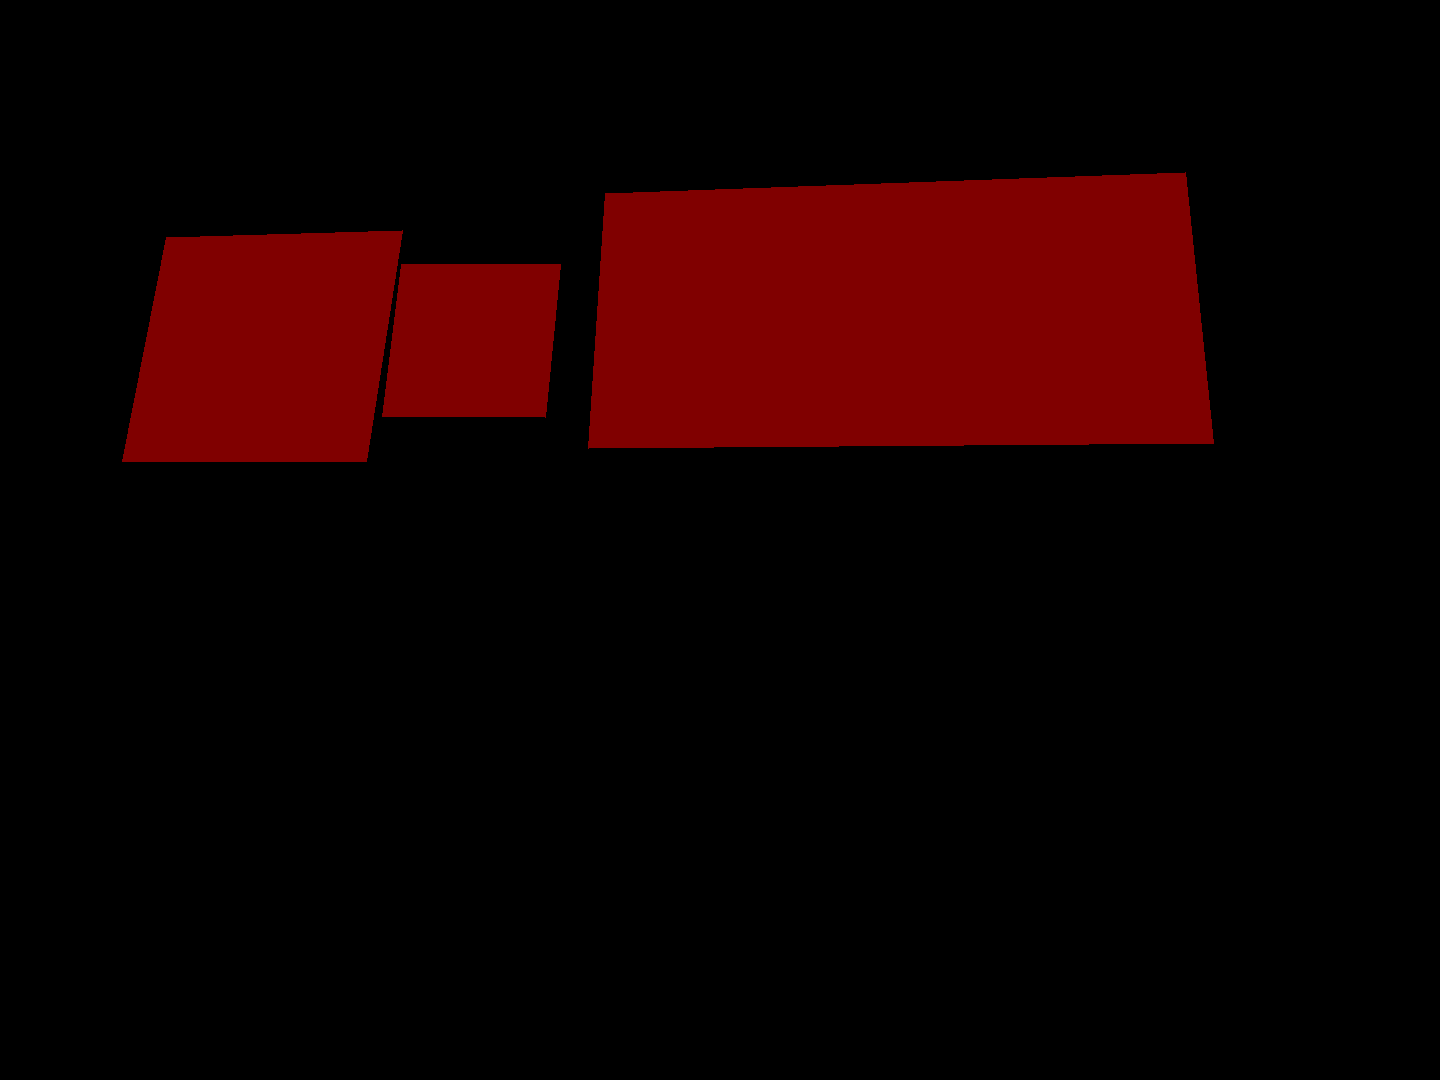sign: (588, 172, 1213, 448), (122, 230, 403, 461), (382, 264, 560, 417)
